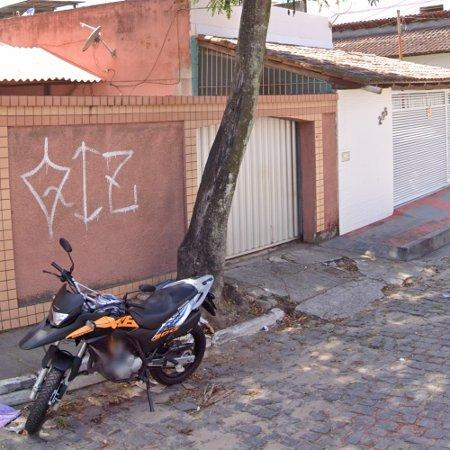motorcycles: (19, 239, 215, 435)
